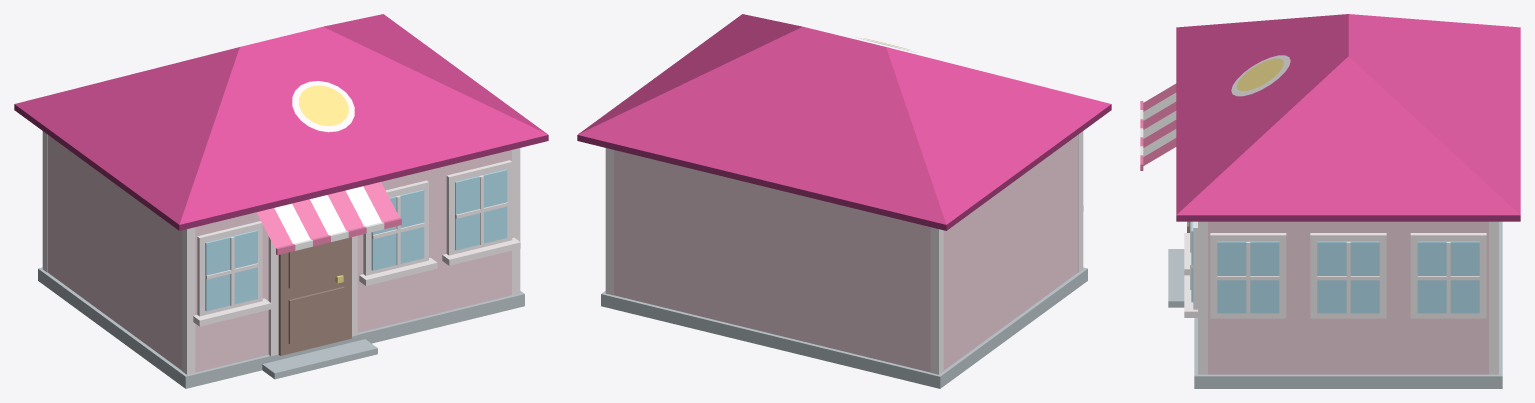
Rendered from wardrobe_shop.glb.
3 renders of one model, left to right at view 1: azimuth 30°, elevation 25°; view 2: azimuth 150°, elevation 25°; view 3: azimuth 270°, elevation 25°, orthographic. The views are drawn at different scales.
Visible parts, largest first — view 1: Wardrobe_Roof, Wardrobe_Walls, Wardrobe_Plinth, Wardrobe_WinF0_Glass, Wardrobe_WinF2_Glass, Wardrobe_Door, Wardrobe_WinF1_Glass, Wardrobe_DoorPanelA, Wardrobe_RoofEdgeFront, Wardrobe_DoorPanelB, Wardrobe_Step, Wardrobe_Corner0 (+19 smaller); view 2: Wardrobe_Walls, Wardrobe_Roof, Wardrobe_Plinth, Wardrobe_RoofEdgeBack, Wardrobe_Corner2, Wardrobe_Corner3, Wardrobe_RoofEdgeLeft, Wardrobe_Corner0; view 3: Wardrobe_Roof, Wardrobe_Walls, Wardrobe_Plinth, Wardrobe_WinS1_Glass, Wardrobe_WinS0_Glass, Wardrobe_WinS2_Glass, Wardrobe_RoofEdgeRight, Wardrobe_WinS0_Frame, Wardrobe_WinS1_Frame, Wardrobe_WinS2_Frame, Wardrobe_Corner1, Wardrobe_Corner3 (+12 smaller).
Part boxes in pixels (x1,y1,x2,y2): Wardrobe_Roof: [14, 14, 548, 224]; Wardrobe_Walls: [47, 135, 511, 372]; Wardrobe_Plinth: [38, 267, 524, 388]; Wardrobe_WinF0_Glass: [205, 230, 257, 311]; Wardrobe_WinF2_Glass: [455, 169, 507, 250]; Wardrobe_Door: [278, 237, 351, 355]; Wardrobe_WinF1_Glass: [371, 190, 424, 270]; Wardrobe_DoorPanelA: [288, 286, 344, 344]; Wardrobe_RoofEdgeFront: [176, 135, 548, 230]; Wardrobe_DoorPanelB: [288, 239, 344, 288]; Wardrobe_Step: [262, 339, 377, 379]; Wardrobe_Corner0: [182, 227, 195, 374]; Wardrobe_Walls: [614, 135, 1078, 372]; Wardrobe_Roof: [577, 14, 1111, 224]; Wardrobe_Plinth: [601, 267, 1087, 388]; Wardrobe_RoofEdgeBack: [577, 135, 949, 230]; Wardrobe_Corner2: [930, 227, 943, 374]; Wardrobe_Corner3: [605, 148, 613, 295]; Wardrobe_RoofEdgeLeft: [942, 106, 1108, 230]; Wardrobe_Corner0: [1078, 131, 1083, 272]; Wardrobe_Roof: [1176, 14, 1520, 215]; Wardrobe_Walls: [1208, 221, 1488, 374]; Wardrobe_Plinth: [1194, 221, 1502, 388]; Wardrobe_WinS1_Glass: [1317, 241, 1379, 313]; Wardrobe_WinS0_Glass: [1417, 241, 1479, 313]; Wardrobe_WinS2_Glass: [1217, 241, 1279, 313]; Wardrobe_RoofEdgeRight: [1176, 215, 1519, 221]; Wardrobe_WinS0_Frame: [1410, 233, 1486, 318]; Wardrobe_WinS1_Frame: [1310, 233, 1386, 318]; Wardrobe_WinS2_Frame: [1210, 233, 1286, 318]; Wardrobe_Corner1: [1198, 221, 1207, 374]; Wardrobe_Corner3: [1489, 221, 1498, 374].
Size of the model in its own units: 4.44 by 2.95 by 3.8.
